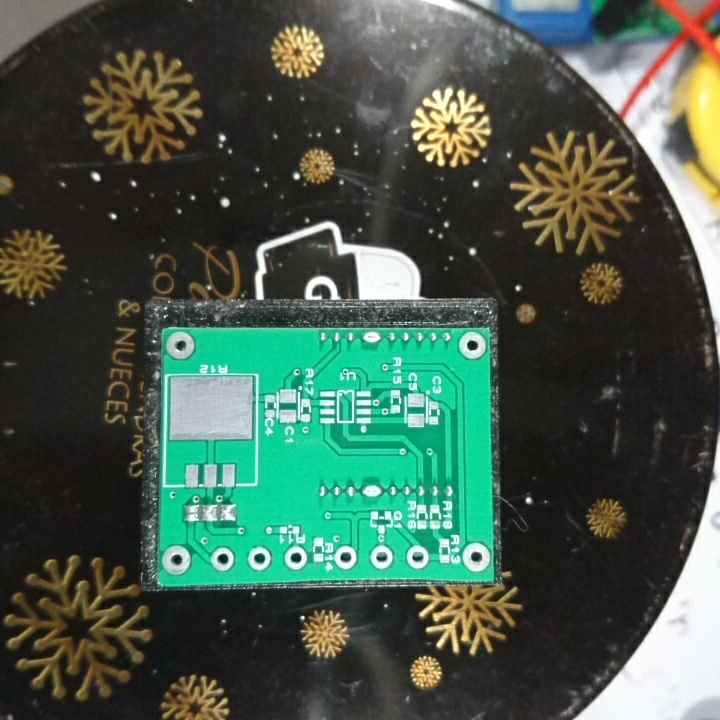F: (163, 329, 200, 362), (459, 540, 491, 575), (160, 543, 196, 573), (245, 543, 276, 576), (457, 331, 487, 365), (207, 545, 236, 576), (405, 543, 431, 572), (368, 544, 396, 570), (333, 543, 359, 571), (282, 545, 308, 571)
P: (359, 478, 384, 503), (359, 328, 382, 349)
